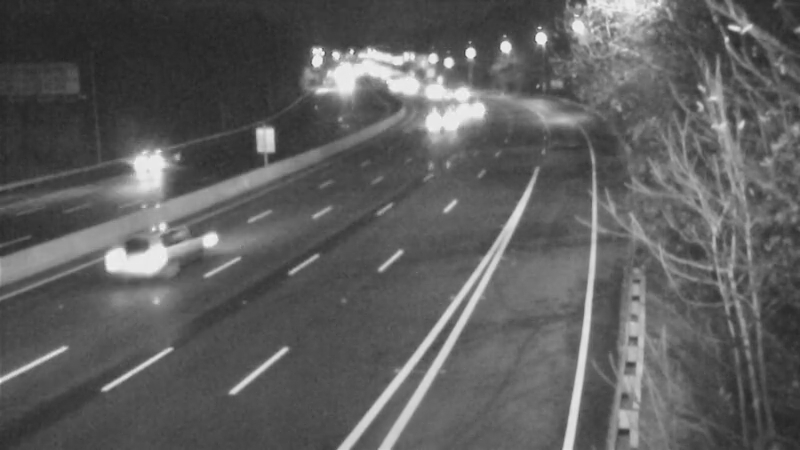vehicle: (100, 212, 180, 292), (93, 113, 173, 193), (436, 69, 486, 119), (449, 82, 499, 132), (418, 93, 468, 143)
